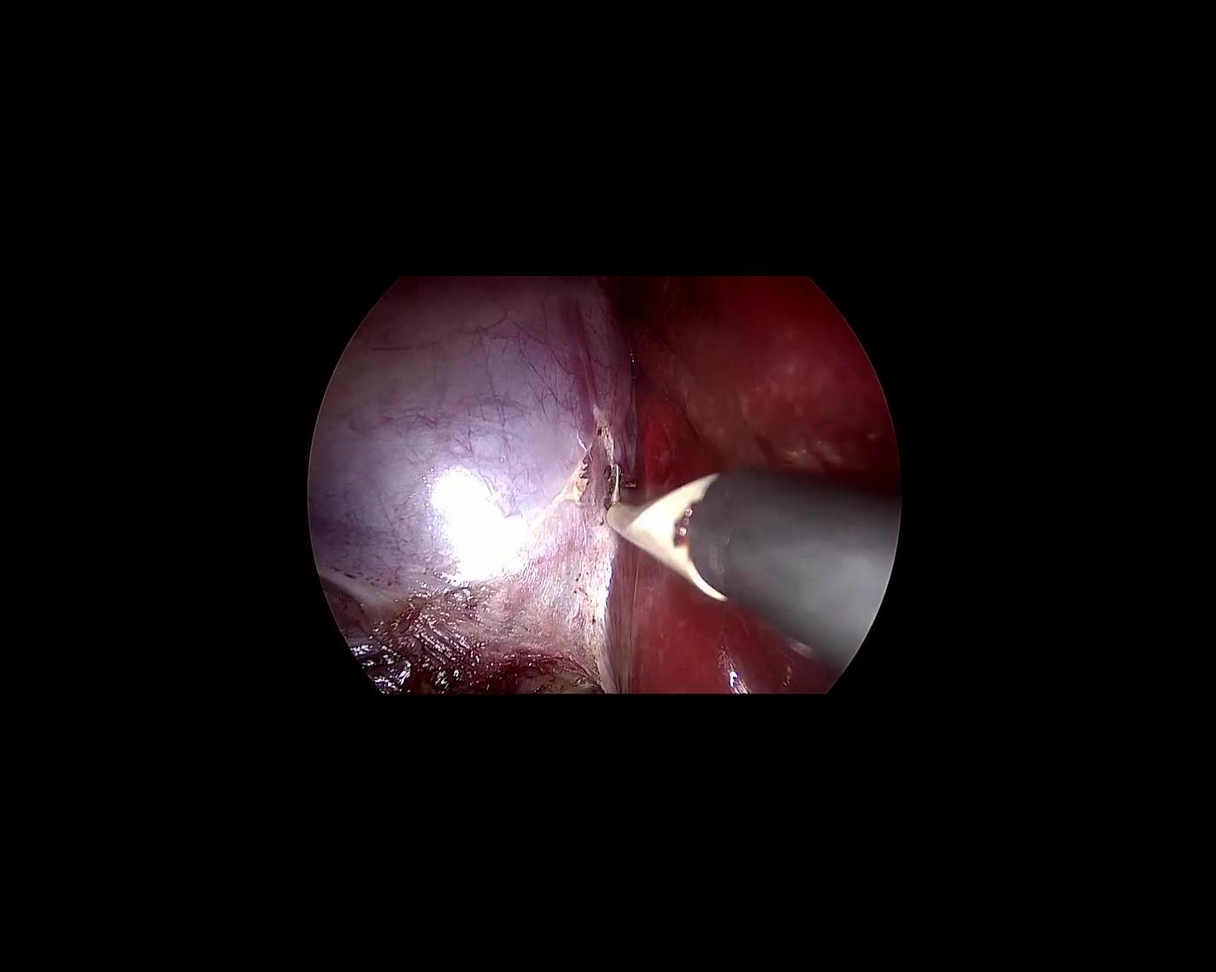Cautery: (585, 456, 903, 671)
Gallbladder: (299, 268, 645, 622)
Liver: (596, 259, 911, 706)
